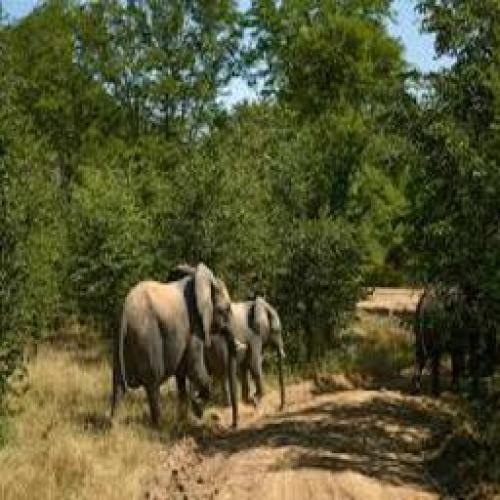african_elephant-endangered: (113, 265, 243, 426), (215, 298, 290, 408)
